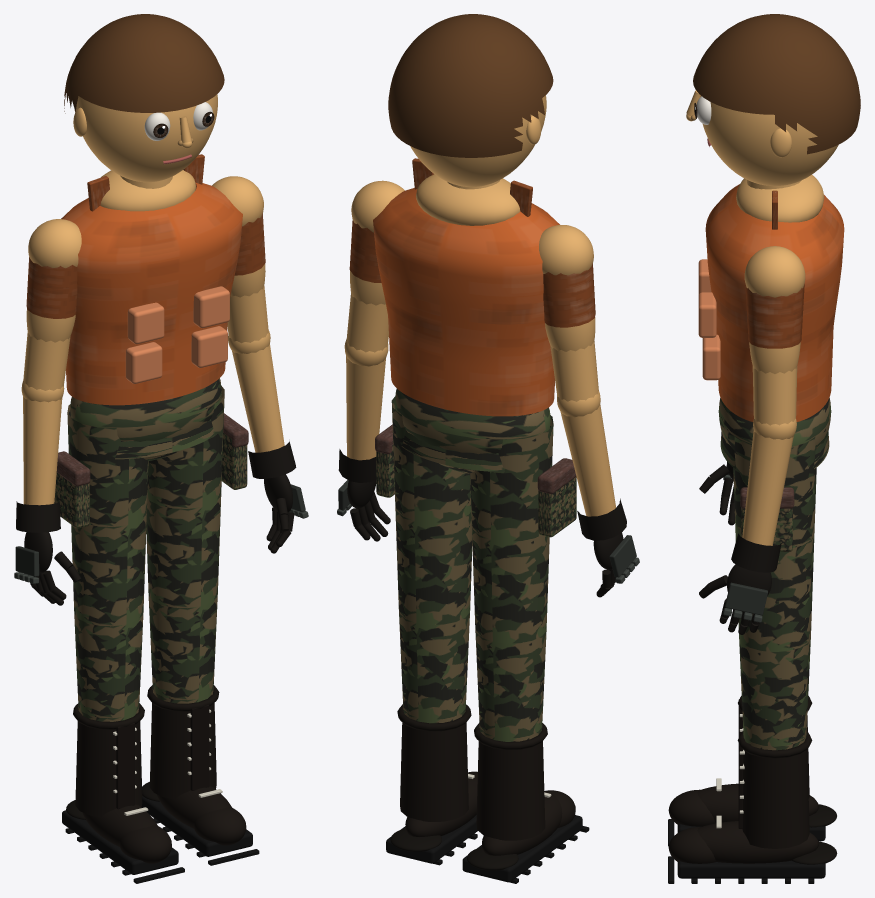
Rendered from 04-gilet-tactique.glb.
3 renders of one model, left to right at view 1: azimuth 30°, elevation 25°; view 2: azimuth 150°, elevation 25°; view 3: azimuth 270°, elevation 25°, orthographic. The views are drawn at different scales.
Bounding box in the file's own units: 0.6344 × 1.77 × 0.3715.
Materials: 24 (5 with a texture image).
